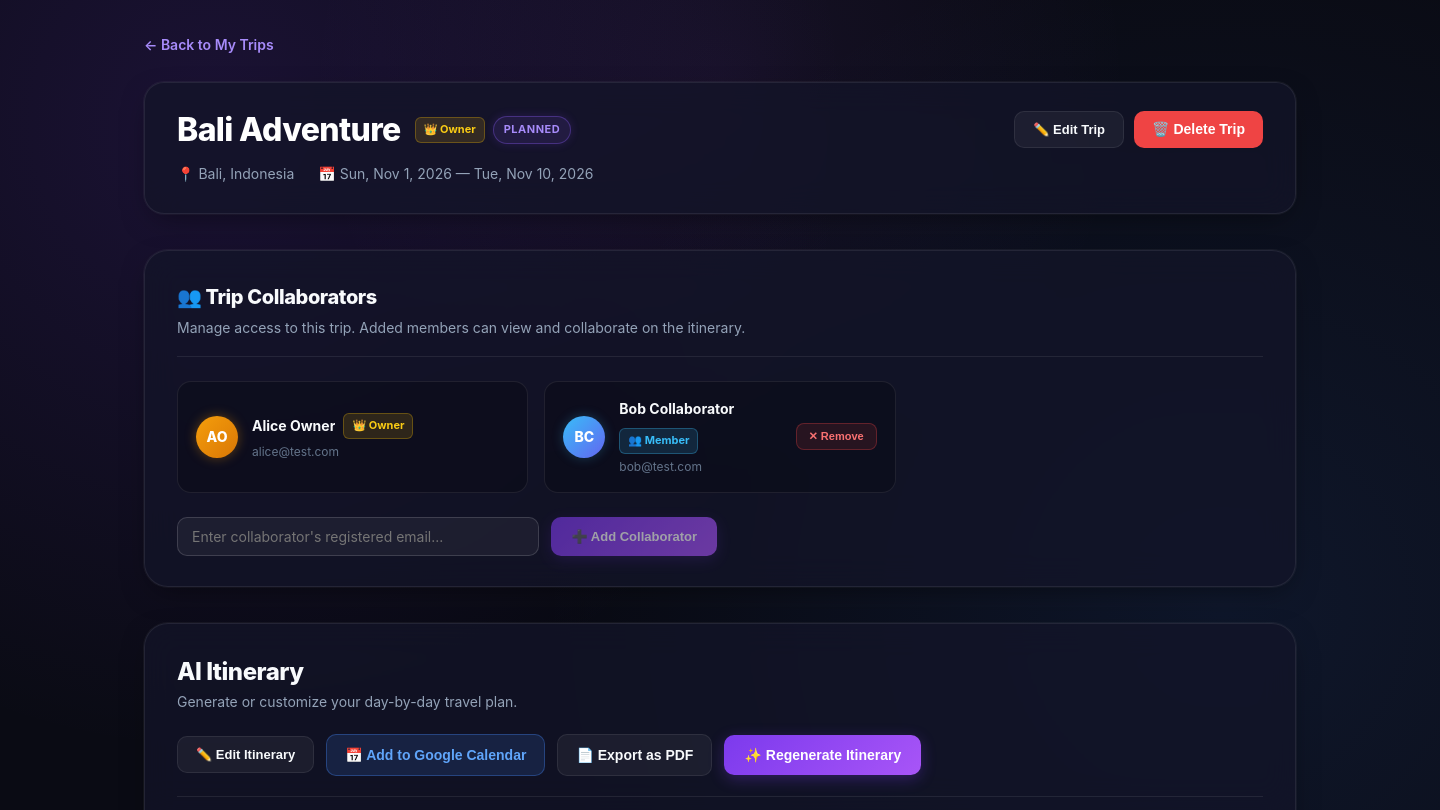
Test: TripDetailsPage Trip Collaboration › owner can successfully add a new collaborator by email
Expected: the form with test id "add-member-form" is shown, [177,517,717,556]
Type "charlie@test.com" into the field with test id "invite-email-input" at (358, 536), box [177,517,540,556]
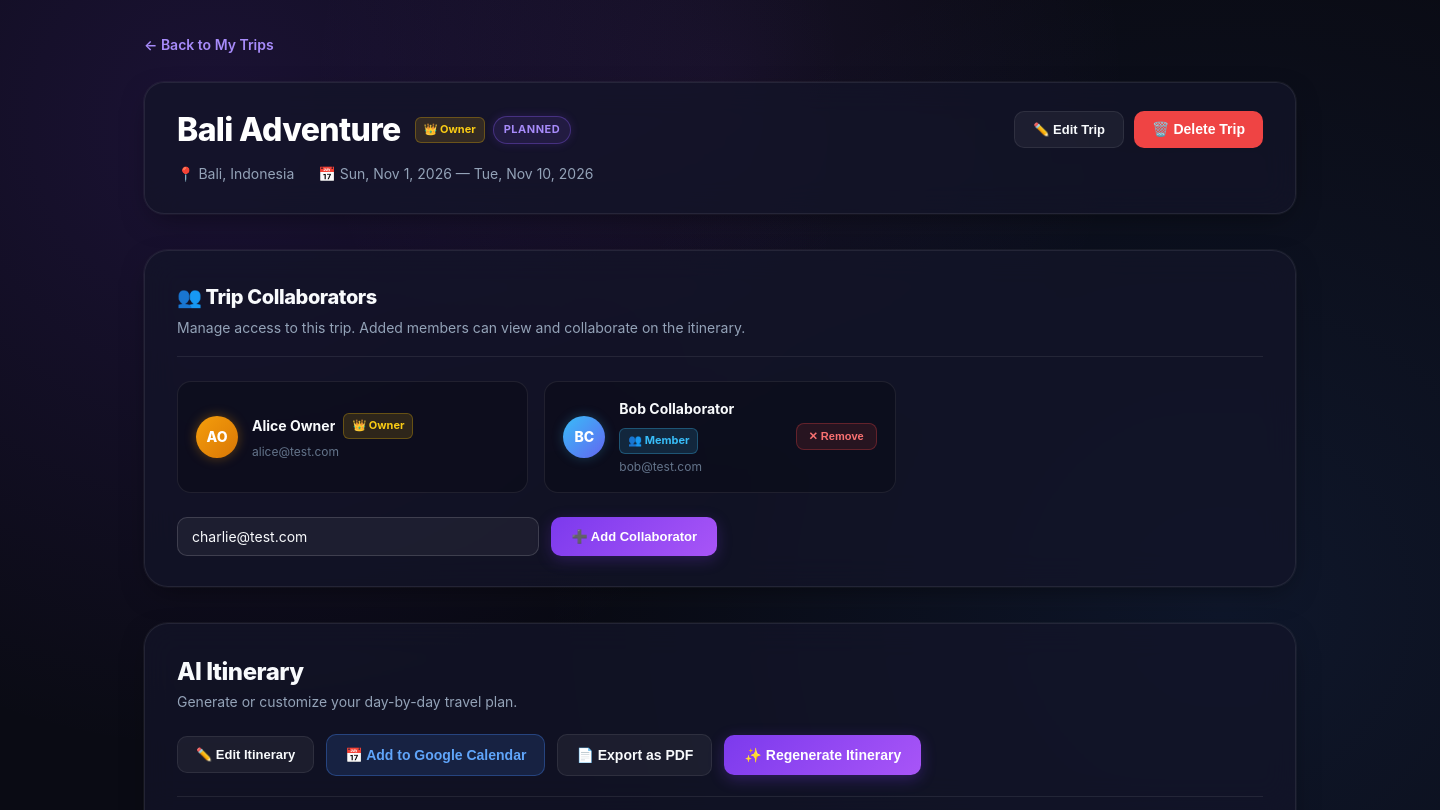
Click the button with test id "invite-member-btn" at (634, 536), box [552,517,717,556]
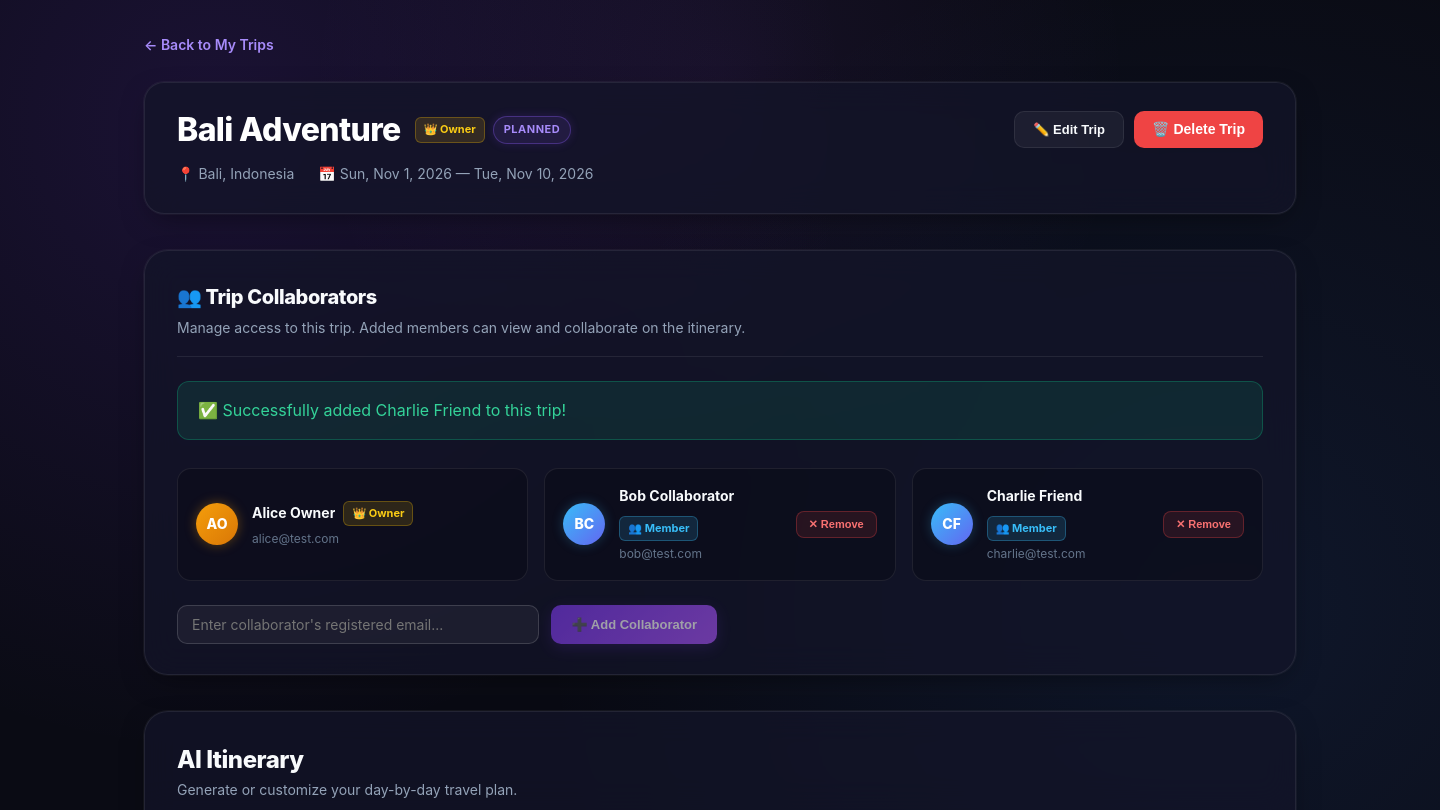
Now the message "✅ Successfully added Charlie Friend to this trip!" is shown, box [177,381,1263,440]
Now the element with test id "collaborator-card-3" is shown, box [912,468,1263,581]
Now the text "Charlie Friend" is shown, box [987,485,1082,508]
